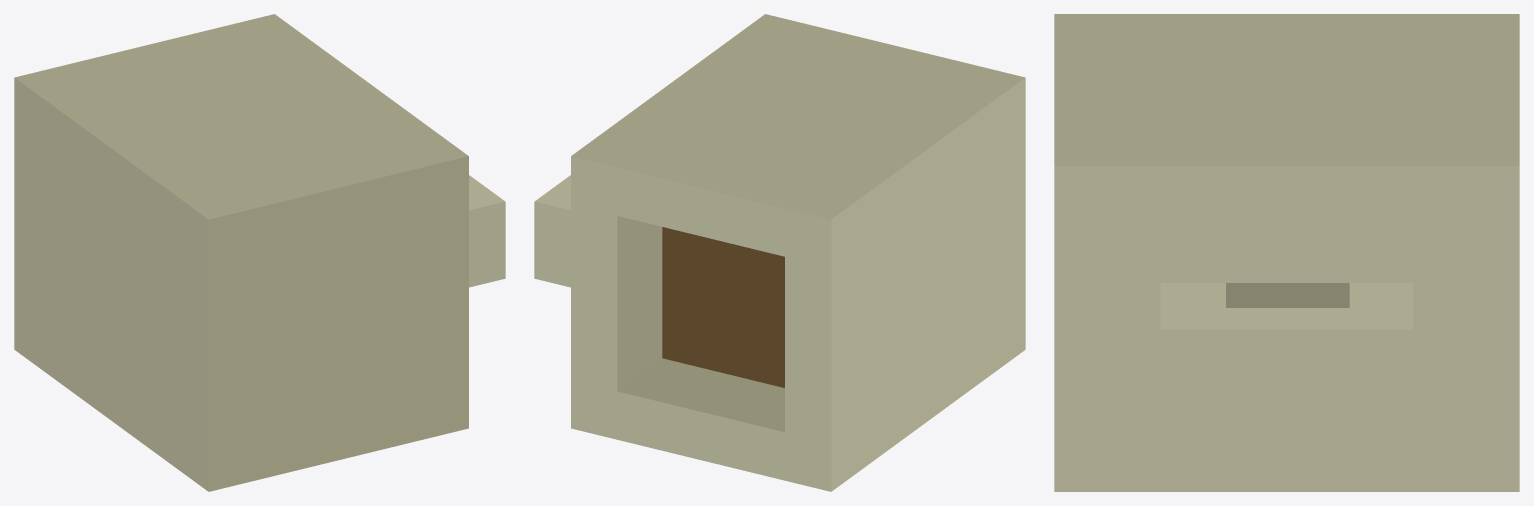
The model's file is CoffeMug2.glb.
3 renders of one model, left to right at view 1: azimuth 30°, elevation 25°; view 2: azimuth 150°, elevation 25°; view 3: azimuth 270°, elevation 25°, orthographic. The views are drawn at different scales.
Parts seen in each view (by area): view 1: SO_CoffeeCup_02; view 2: SO_CoffeeCup_02; view 3: SO_CoffeeCup_02.
Part boxes in pixels (box(x1,y1,x2,y2)): SO_CoffeeCup_02: box(14, 14, 505, 491); SO_CoffeeCup_02: box(534, 14, 1025, 491); SO_CoffeeCup_02: box(1054, 14, 1519, 491).
Size of the model in its own units: 0.2731 by 0.2083 by 0.2694.
Materials: 1 (1 with a texture image).
